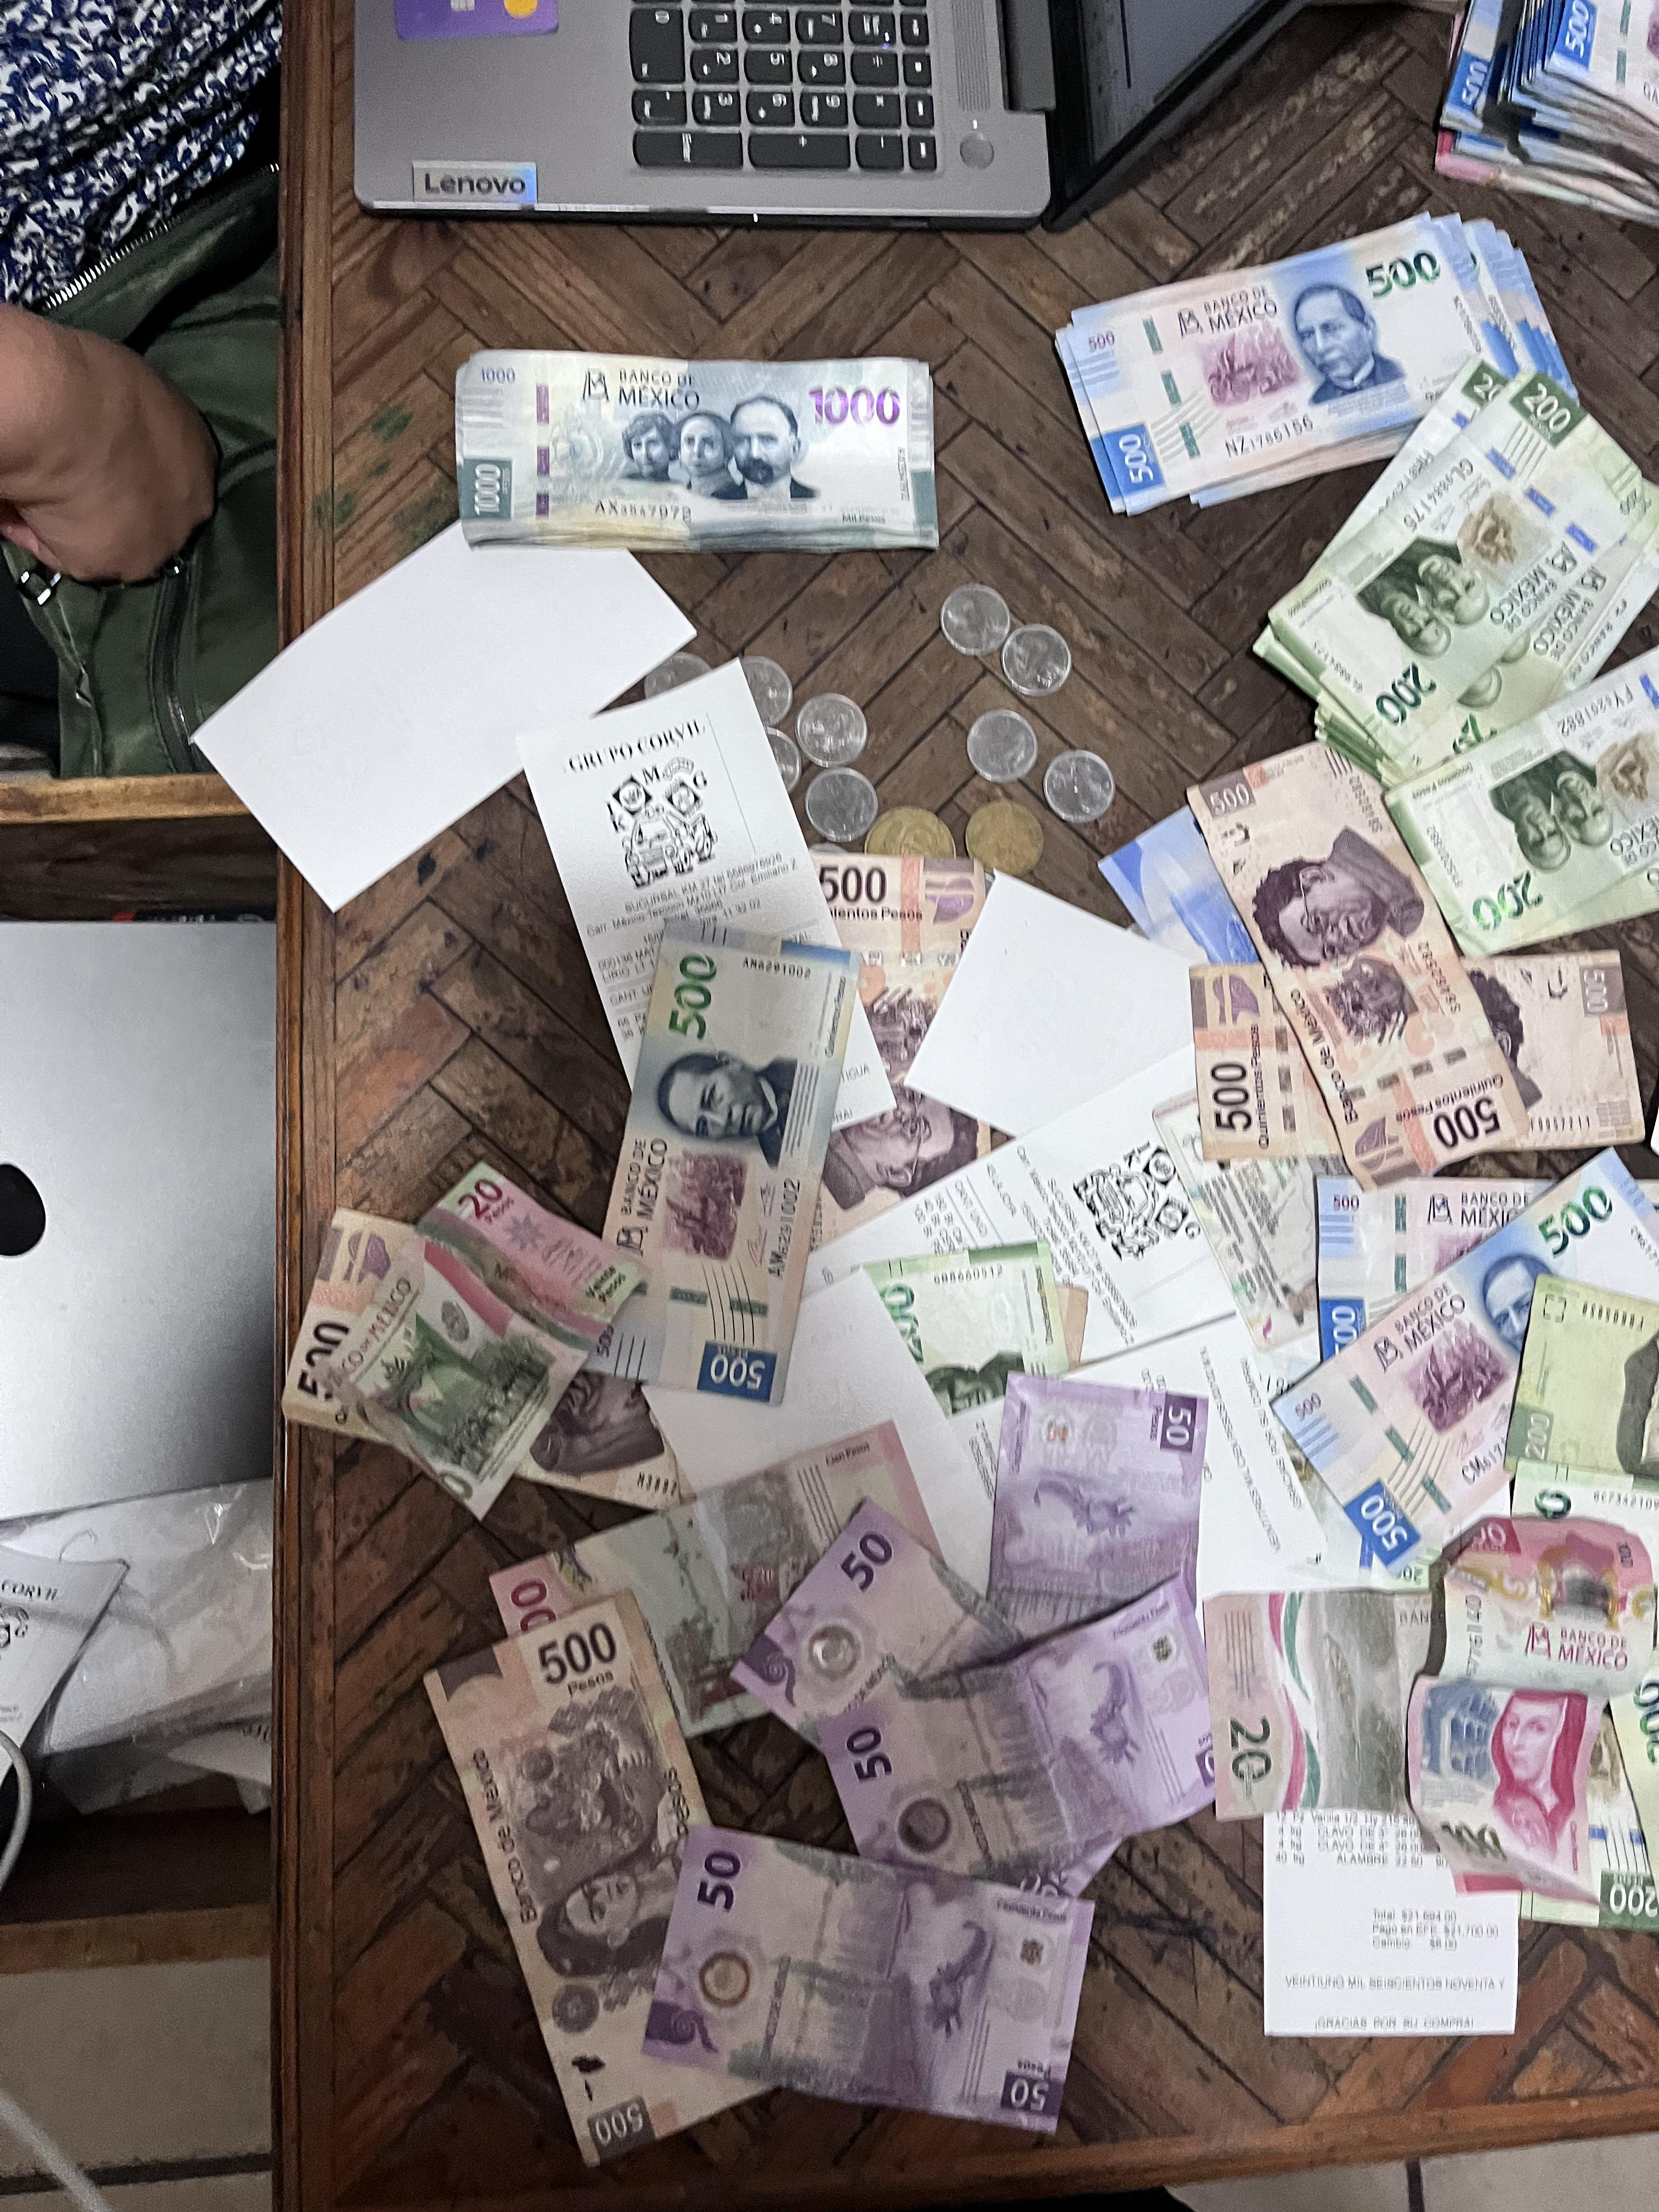100: (467, 1428, 941, 1757), (1413, 1493, 1619, 1933)
1000: (450, 331, 946, 561)
20: (1201, 1585, 1480, 1825)
200: (1244, 362, 1659, 805), (1359, 648, 1659, 958), (838, 1237, 1086, 1426), (1502, 1280, 1659, 1494), (1595, 1648, 1659, 1942)
50: (810, 1580, 1274, 1892), (650, 1818, 1084, 2148), (985, 1355, 1215, 1684), (755, 1500, 1033, 1756)
500: (411, 1590, 810, 2174), (1178, 738, 1514, 1184), (281, 1198, 704, 1517), (1161, 951, 1659, 1183), (784, 827, 1021, 1251)
500 nuevo: (1267, 1139, 1659, 1550), (1023, 209, 1551, 505), (575, 902, 878, 1409), (1297, 1177, 1659, 1366), (1452, 0, 1659, 165), (1096, 792, 1263, 972)
